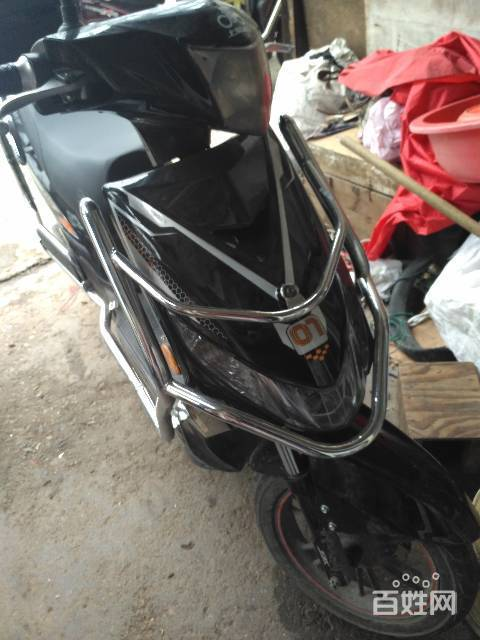电动车: (1, 1, 476, 635)
